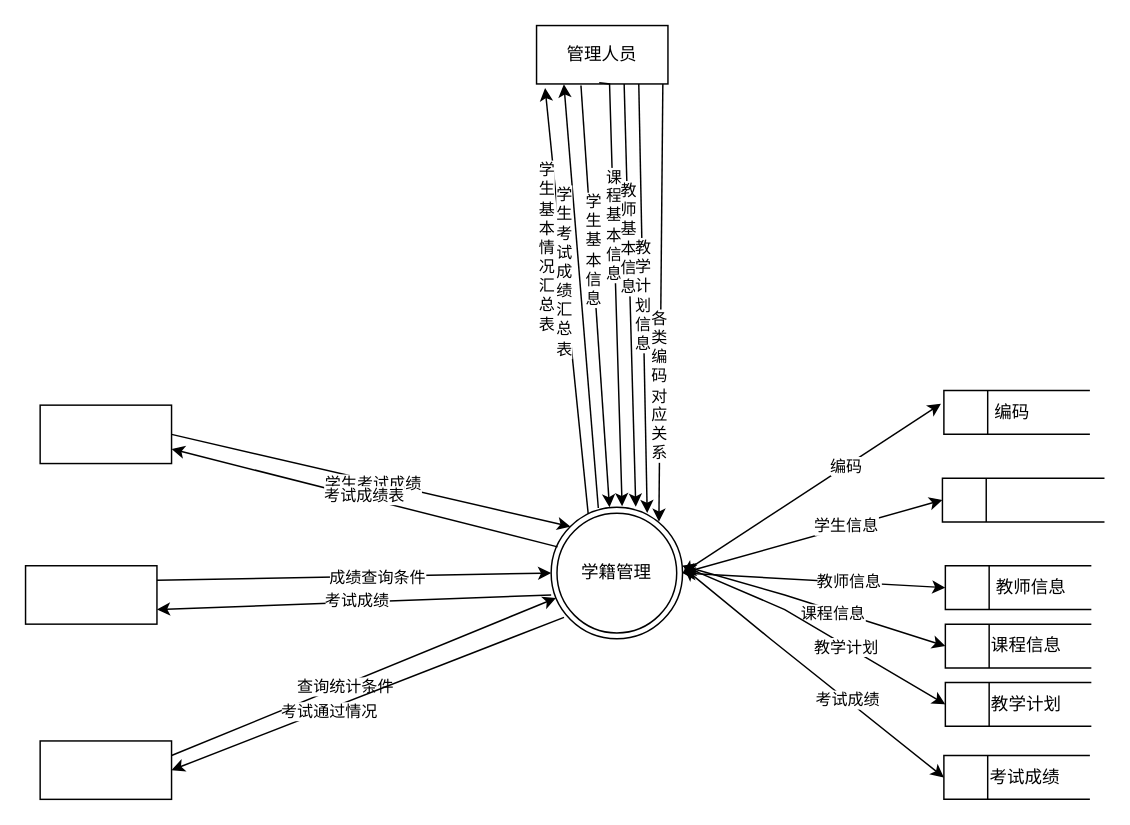
This 1130x825 diagram has some shape labels left out. Here are the shapes that lost their labels. From the top down, the centre of each, then its label:
At point (105, 434): "教师".
At point (1022, 499): "学生基本信息".
At point (90, 594): "学生".
At point (105, 769): "班主任".
